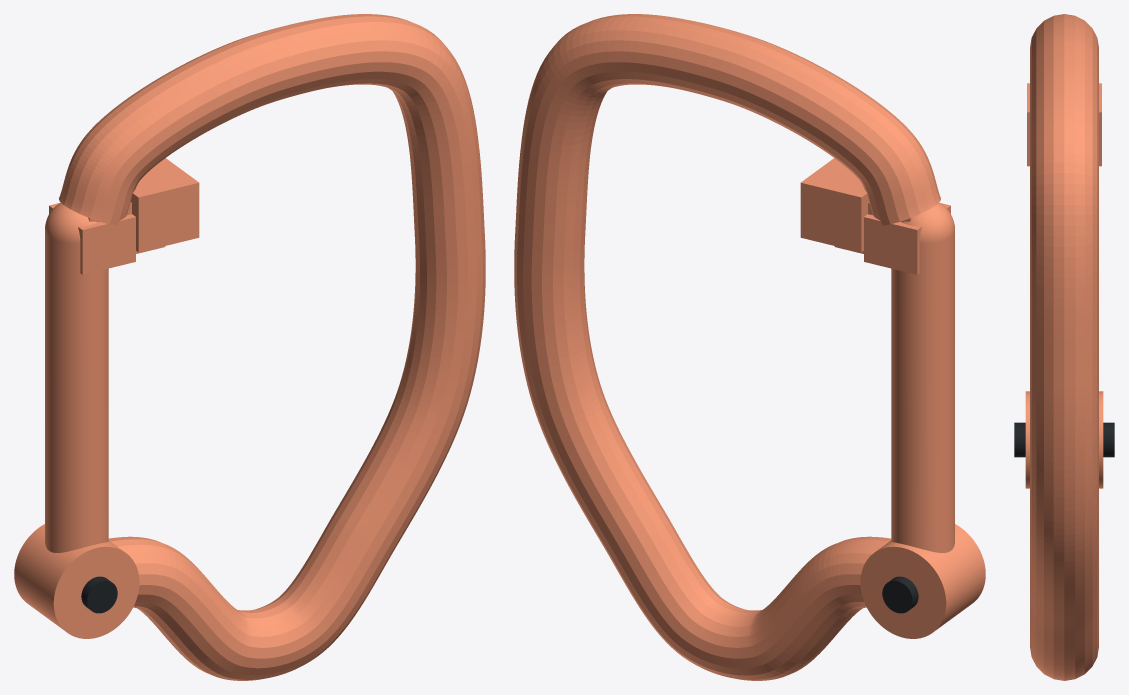
File: Sports_Carabiner__0000.glb
The picture shows the model from 3 angles, left to right: view 1: azimuth 30°, elevation 25°; view 2: azimuth 150°, elevation 25°; view 3: azimuth 270°, elevation 25°; orthographic projection. The views are drawn at different scales.
Visible parts, largest first — view 1: body::body_loop, gate::gate_bar, gate::gate_latch, body::nose_lug, gate::hinge_pin; view 2: body::body_loop, gate::gate_bar, gate::gate_latch, body::nose_lug, gate::hinge_pin; view 3: body::body_loop, gate::gate_bar, gate::hinge_pin, gate::gate_latch.
Boxes of the visible parts, x1,y1,x2,y2 form: body::body_loop: (59, 14, 485, 680); gate::gate_bar: (14, 202, 165, 638); gate::gate_latch: (131, 158, 199, 252); body::nose_lug: (49, 203, 135, 274); gate::hinge_pin: (81, 576, 117, 613); body::body_loop: (514, 14, 940, 680); gate::gate_bar: (834, 202, 985, 638); gate::gate_latch: (800, 158, 868, 252); body::nose_lug: (864, 203, 950, 274); gate::hinge_pin: (882, 576, 918, 613); body::body_loop: (1030, 14, 1098, 680); gate::gate_bar: (1025, 391, 1103, 488); gate::hinge_pin: (1014, 422, 1114, 457); gate::gate_latch: (1027, 83, 1101, 166).
Size of the model in its own units: 0.0626 by 0.0857 by 0.0124.
Materials: 2 (2 with a texture image).
